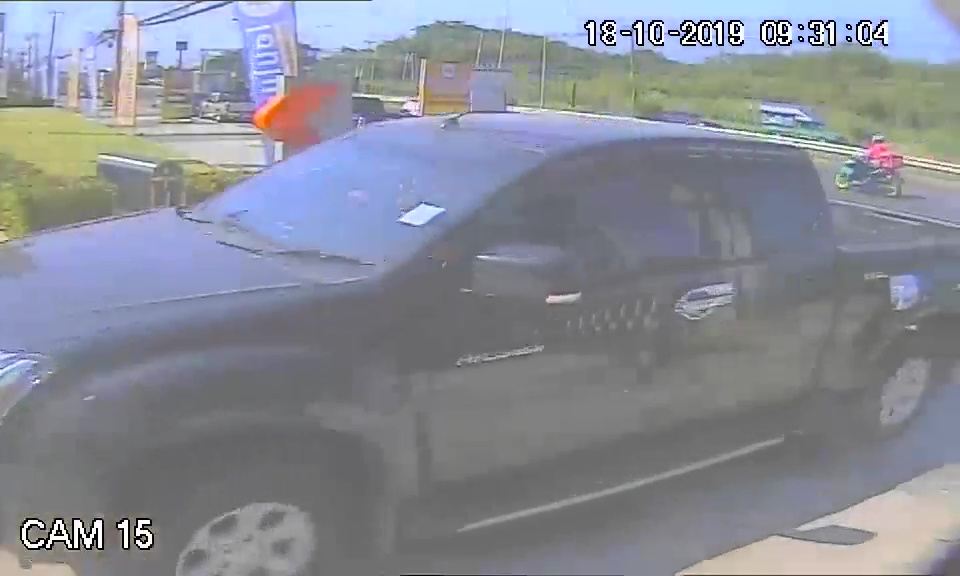pickup: (5, 108, 831, 514)
